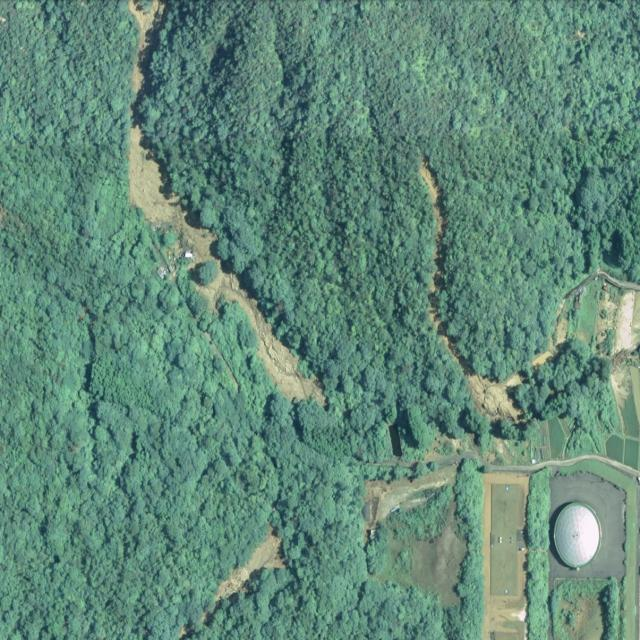landslide: (199, 261, 326, 405), (128, 123, 216, 262), (216, 528, 284, 601), (129, 0, 164, 94), (464, 366, 522, 421), (468, 374, 522, 422), (420, 156, 443, 241), (432, 306, 463, 365)
